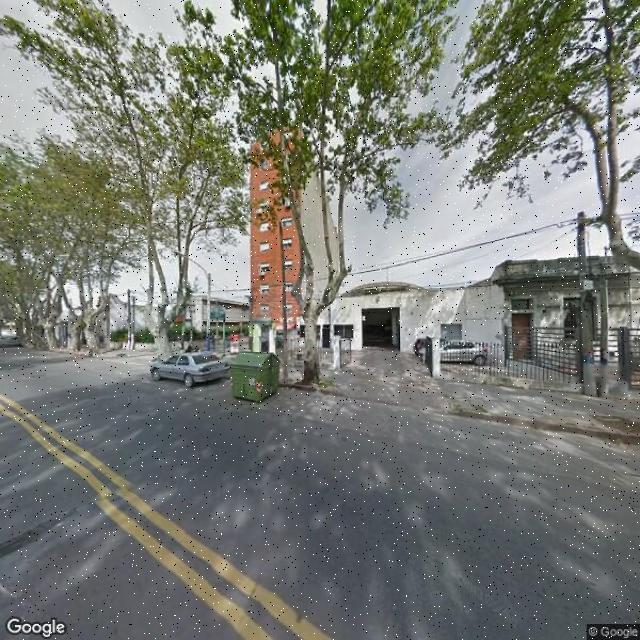garbage container: (226, 348, 287, 405)
